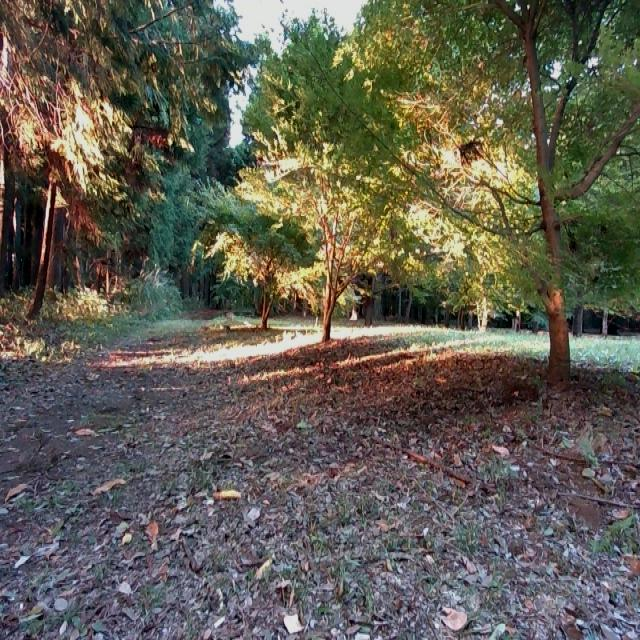bush: (0, 258, 182, 362)
tree: (488, 0, 640, 396), (23, 2, 79, 324), (311, 182, 367, 342), (249, 235, 286, 334)
